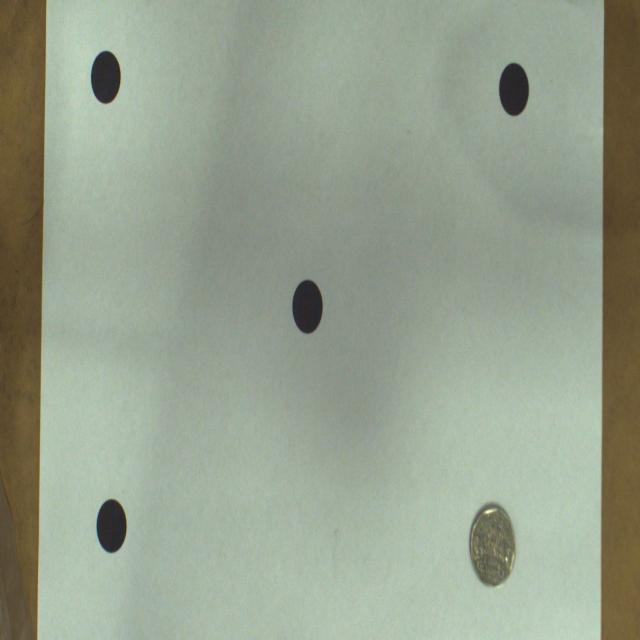space: (91, 51, 121, 104), (96, 500, 126, 553), (292, 280, 322, 333), (499, 64, 529, 116)
tail5bath: (470, 504, 515, 587)
